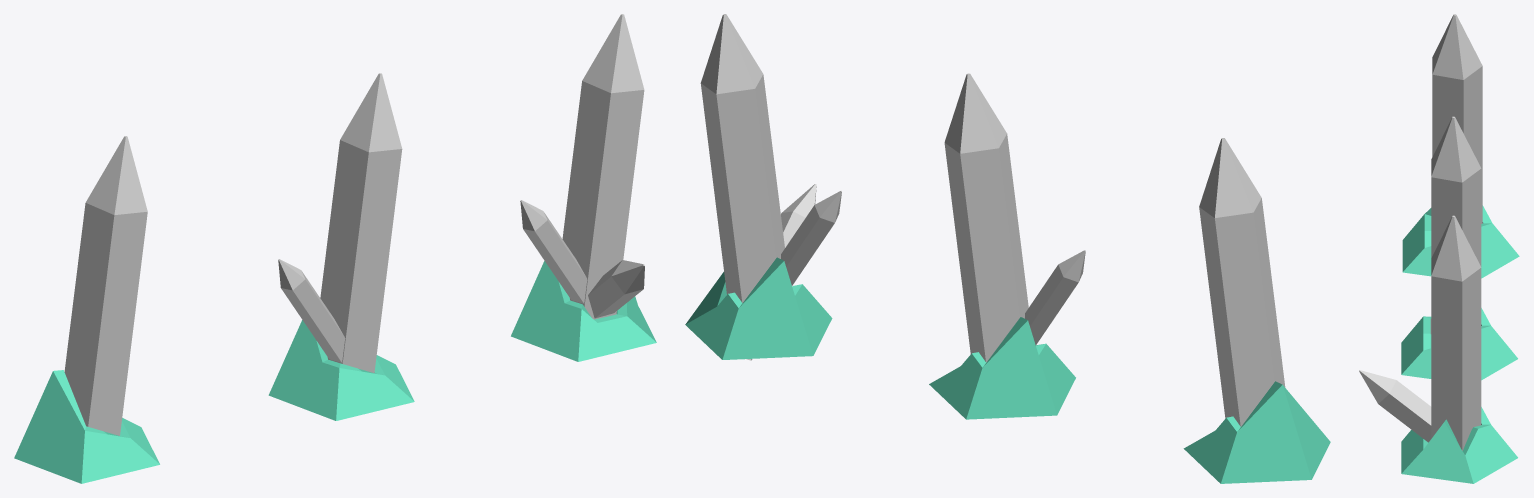
File: crystal.fbx
3 renders of one model, left to right at view 1: azimuth 30°, elevation 25°; view 2: azimuth 150°, elevation 25°; view 3: azimuth 270°, elevation 25°, orthographic. The views are drawn at different scales.
Parts seen in each view (by area): view 1: Cylinder.002, Cylinder, Cylinder.001; view 2: Cylinder.002, Cylinder, Cylinder.001; view 3: Cylinder.002, Cylinder.001, Cylinder.
Boxes of the visible parts, <box> form: Cylinder.002: <box>511,14,656,361</box>; Cylinder: <box>268,73,414,420</box>; Cylinder.001: <box>14,136,159,483</box>; Cylinder.002: <box>685,14,841,360</box>; Cylinder: <box>929,73,1085,419</box>; Cylinder.001: <box>1183,138,1330,483</box>; Cylinder.002: <box>1359,215,1517,483</box>; Cylinder.001: <box>1402,14,1519,278</box>; Cylinder: <box>1401,116,1517,380</box>.
Bounding box in the file's own units: 816 × 406 × 217.
